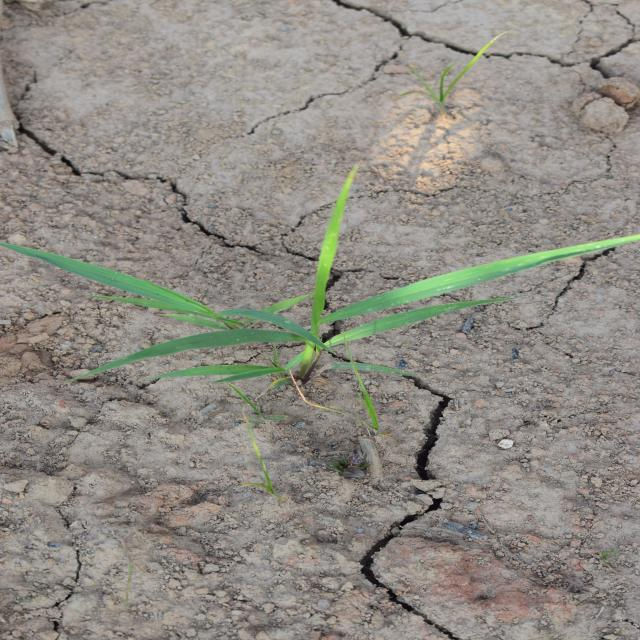green_foxtail: (267, 36, 412, 526)
